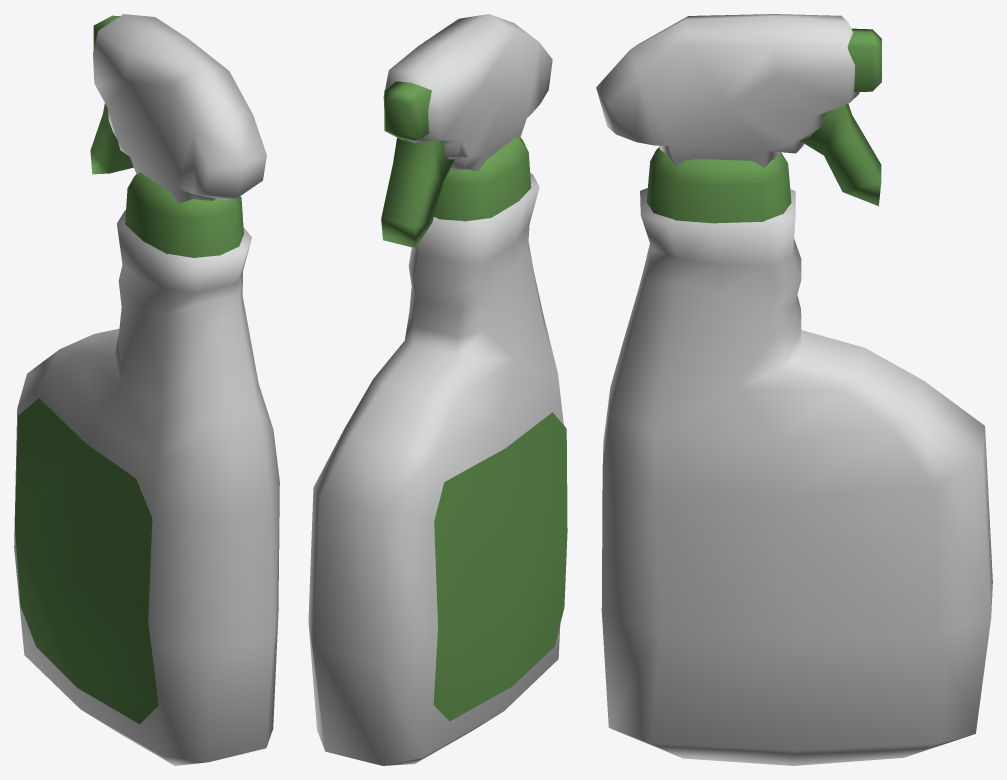
The model's file is Inseticida.fbx.
3 views of the same model, side by side, from view 1: azimuth 30°, elevation 25°; view 2: azimuth 150°, elevation 25°; view 3: azimuth 270°, elevation 25° (orthographic). The views are drawn at different scales.
Parts seen in each view (by area): view 1: Spray.004; view 2: Spray.004; view 3: Spray.004.
Boxes of the visible parts, left/top/right/bottom form: Spray.004: left=14, top=14, right=279, bottom=765; Spray.004: left=308, top=14, right=567, bottom=765; Spray.004: left=596, top=14, right=992, bottom=765.
Size of the model in its own units: 0.5021 by 2.25 by 1.1.
